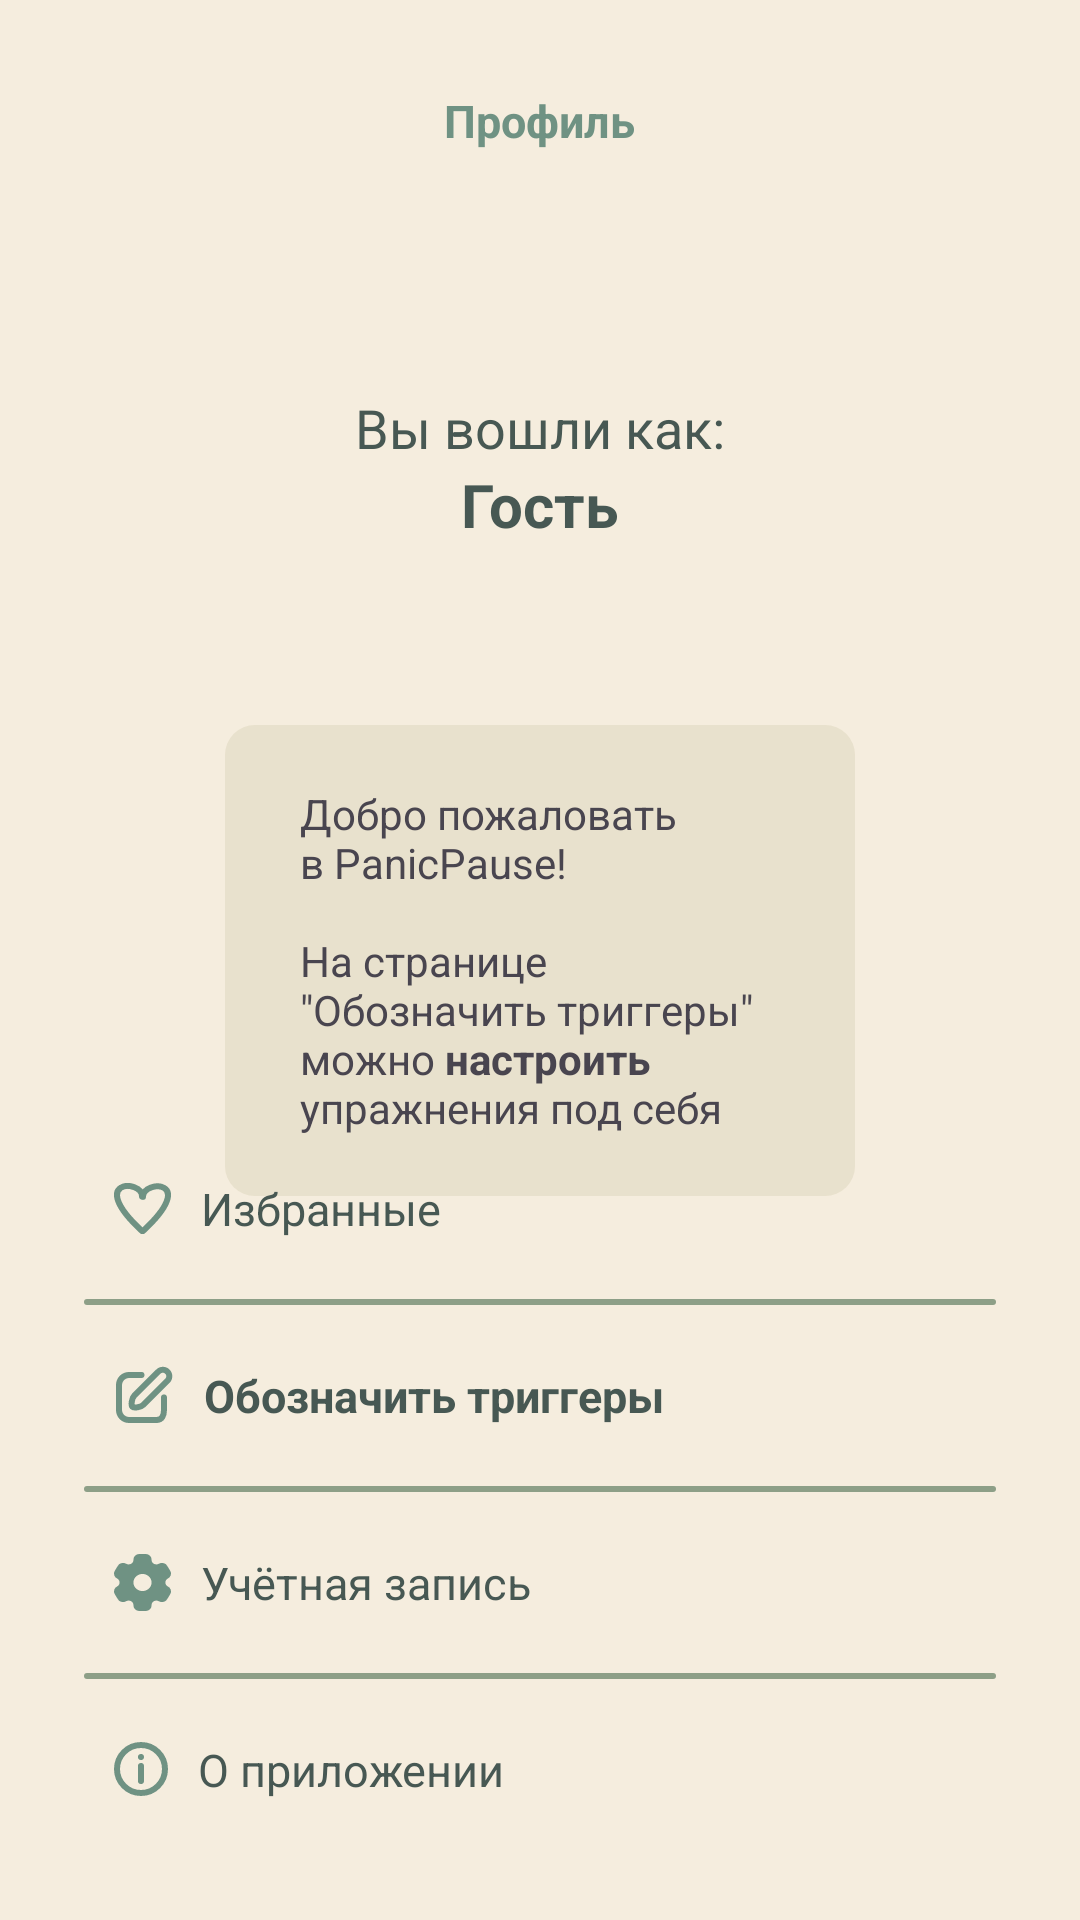

Point at icon controls on the screen. Image size 1080*1920, points as (x=x, y=y).
heart empty: (x=142, y=1208)
info: (x=141, y=1769)
pencil edit: (x=144, y=1394)
settings: (x=142, y=1582)
